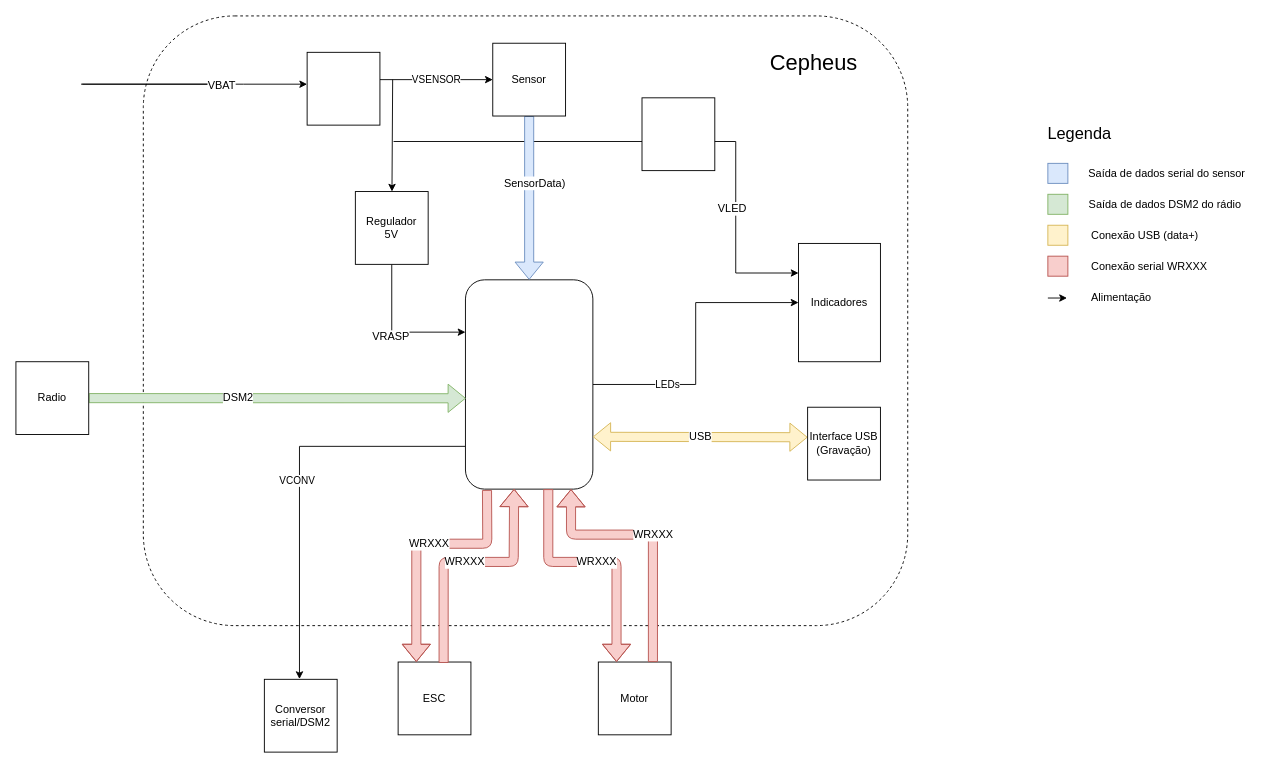
Image size: 1273x768. Some labels were removed from this diagram. The centre of each missing label's shape, as x and y in pixels:
"Controlador" goes at point (529, 384).
"Regulador VLED" goes at point (678, 134).
"Regulador VSENSOR" goes at point (343, 88).
